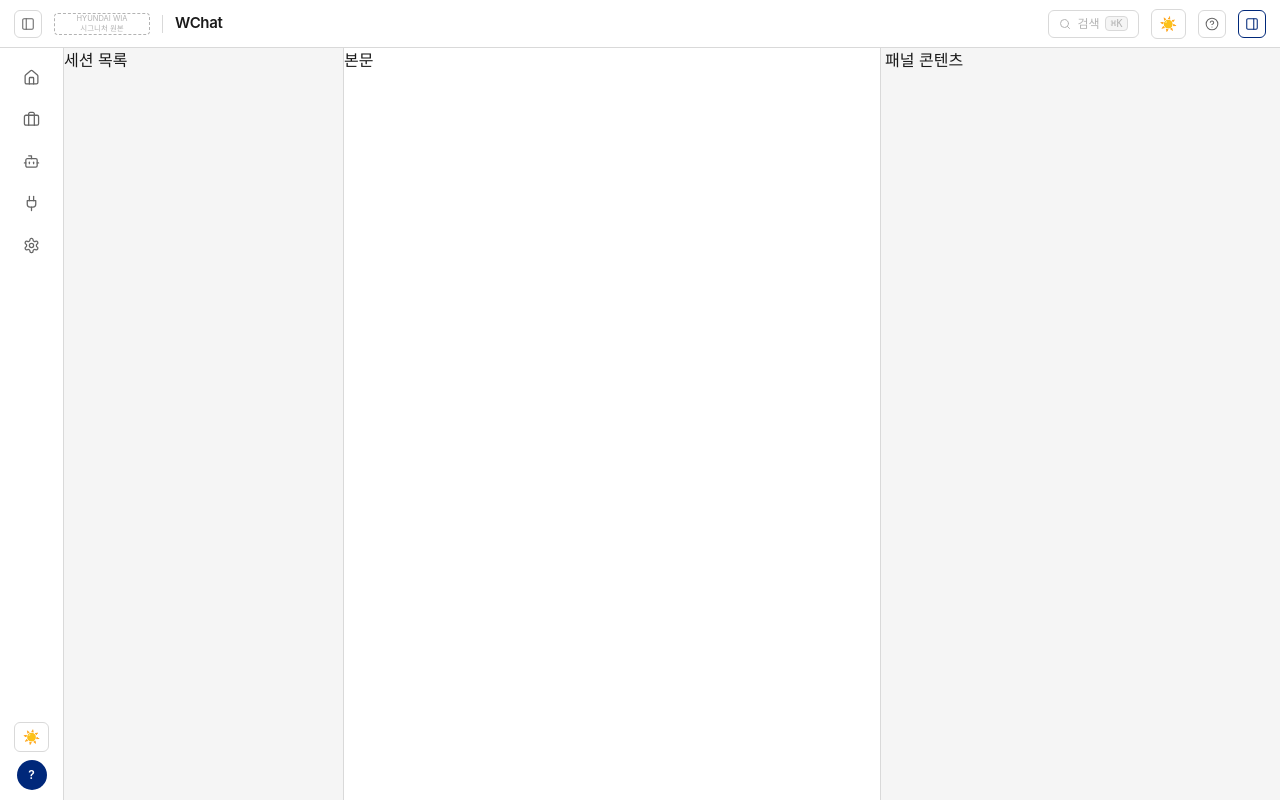
Test: AppShell › 단축키 도움말 버튼 클릭으로도 오버레이를 연다
This screenshot has width=1280, height=800.
Click the button with test id "app-shell-shortcuts-button" at (1212, 24), box [1198, 10, 1226, 38]
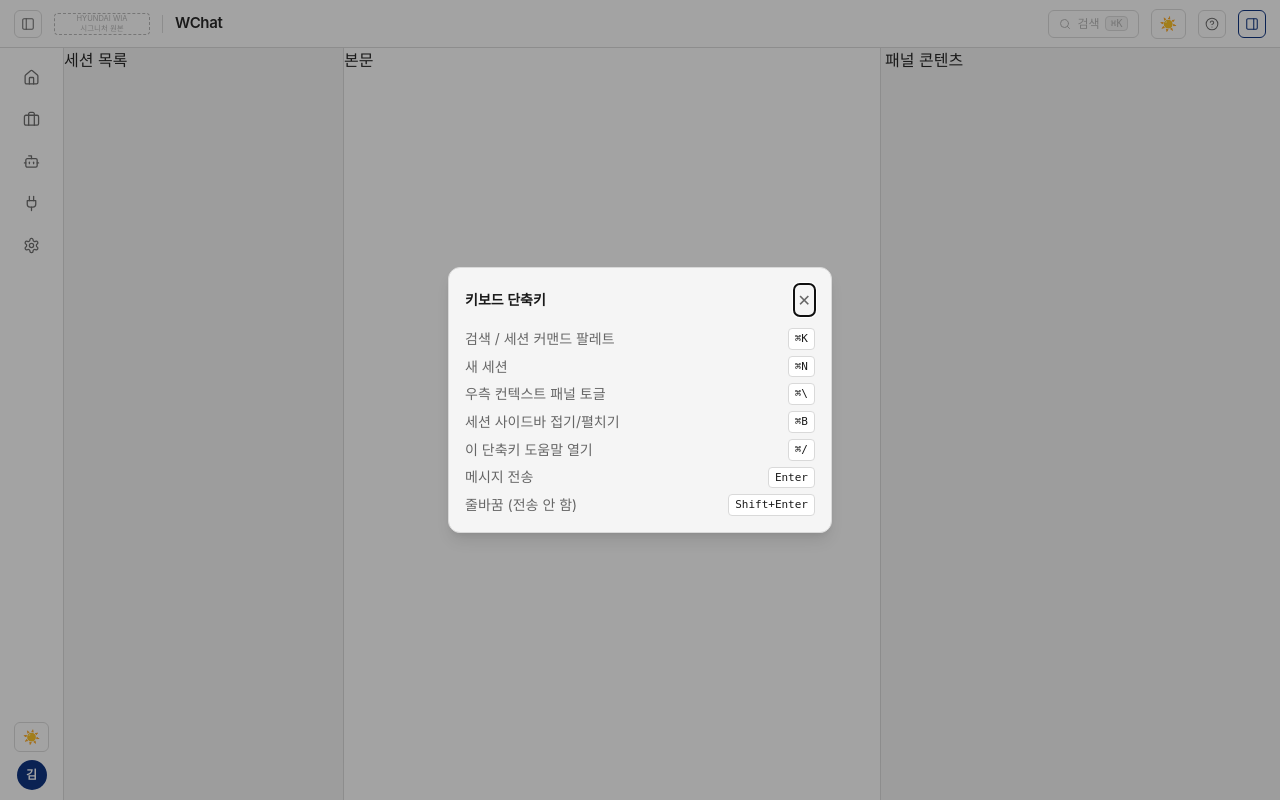
Expected: the dialog with test id "shortcut-sheet" is shown, [448, 267, 832, 533]
